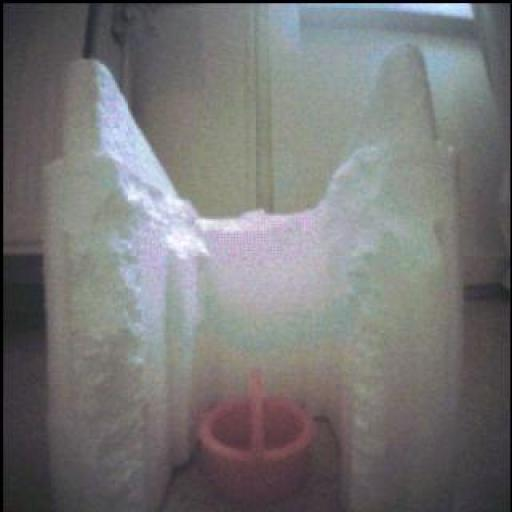Basket: (194, 364, 321, 508)
